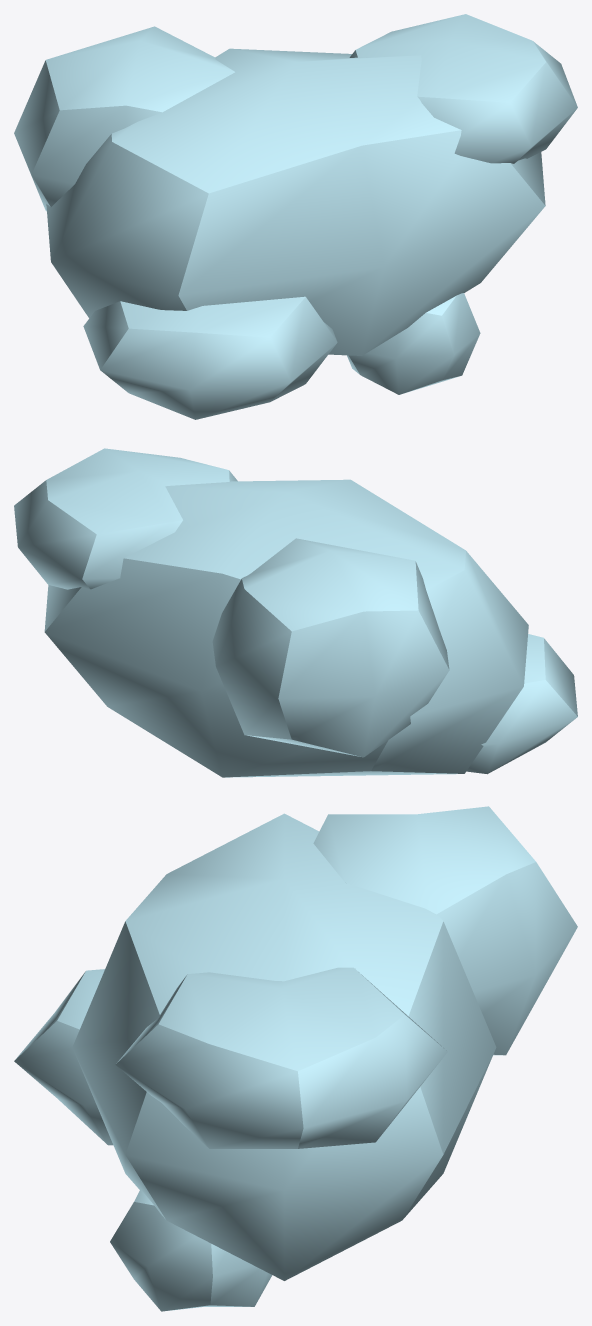
Rendered from cloud02.FBX.
3 views of the same model, one above another, from view 1: azimuth 30°, elevation 25°; view 2: azimuth 150°, elevation 25°; view 3: azimuth 270°, elevation 25° (orthographic). The views are drawn at different scales.
Parts seen in each view (by area): view 1: CloudBits00, CloudBits04, CloudBits03, CloudBits01, CloudBits02; view 2: CloudBits00, CloudBits01, CloudBits03, CloudBits04; view 3: CloudBits00, CloudBits03, CloudBits01, CloudBits02, CloudBits04.
Boxes of the visible parts, x1,y1,x2,y2 form: CloudBits00: (46,48,545,355); CloudBits04: (83,296,337,419); CloudBits03: (349,14,577,163); CloudBits01: (14,26,234,211); CloudBits02: (347,293,480,394); CloudBits00: (44,479,528,777); CloudBits01: (212,538,449,757); CloudBits03: (14,448,237,589); CloudBits04: (466,634,577,774); CloudBits00: (72,813,496,1280); CloudBits03: (115,967,447,1148); CloudBits01: (313,806,577,1055); CloudBits02: (110,1189,272,1311); CloudBits04: (14,969,112,1145).
Bounding box in the file's own units: 120 × 71.23 × 93.64.
